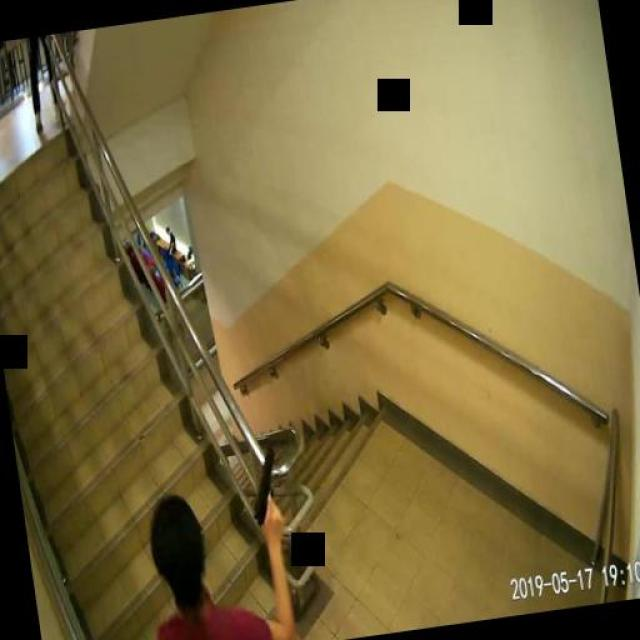gun: (244, 443, 285, 535)
